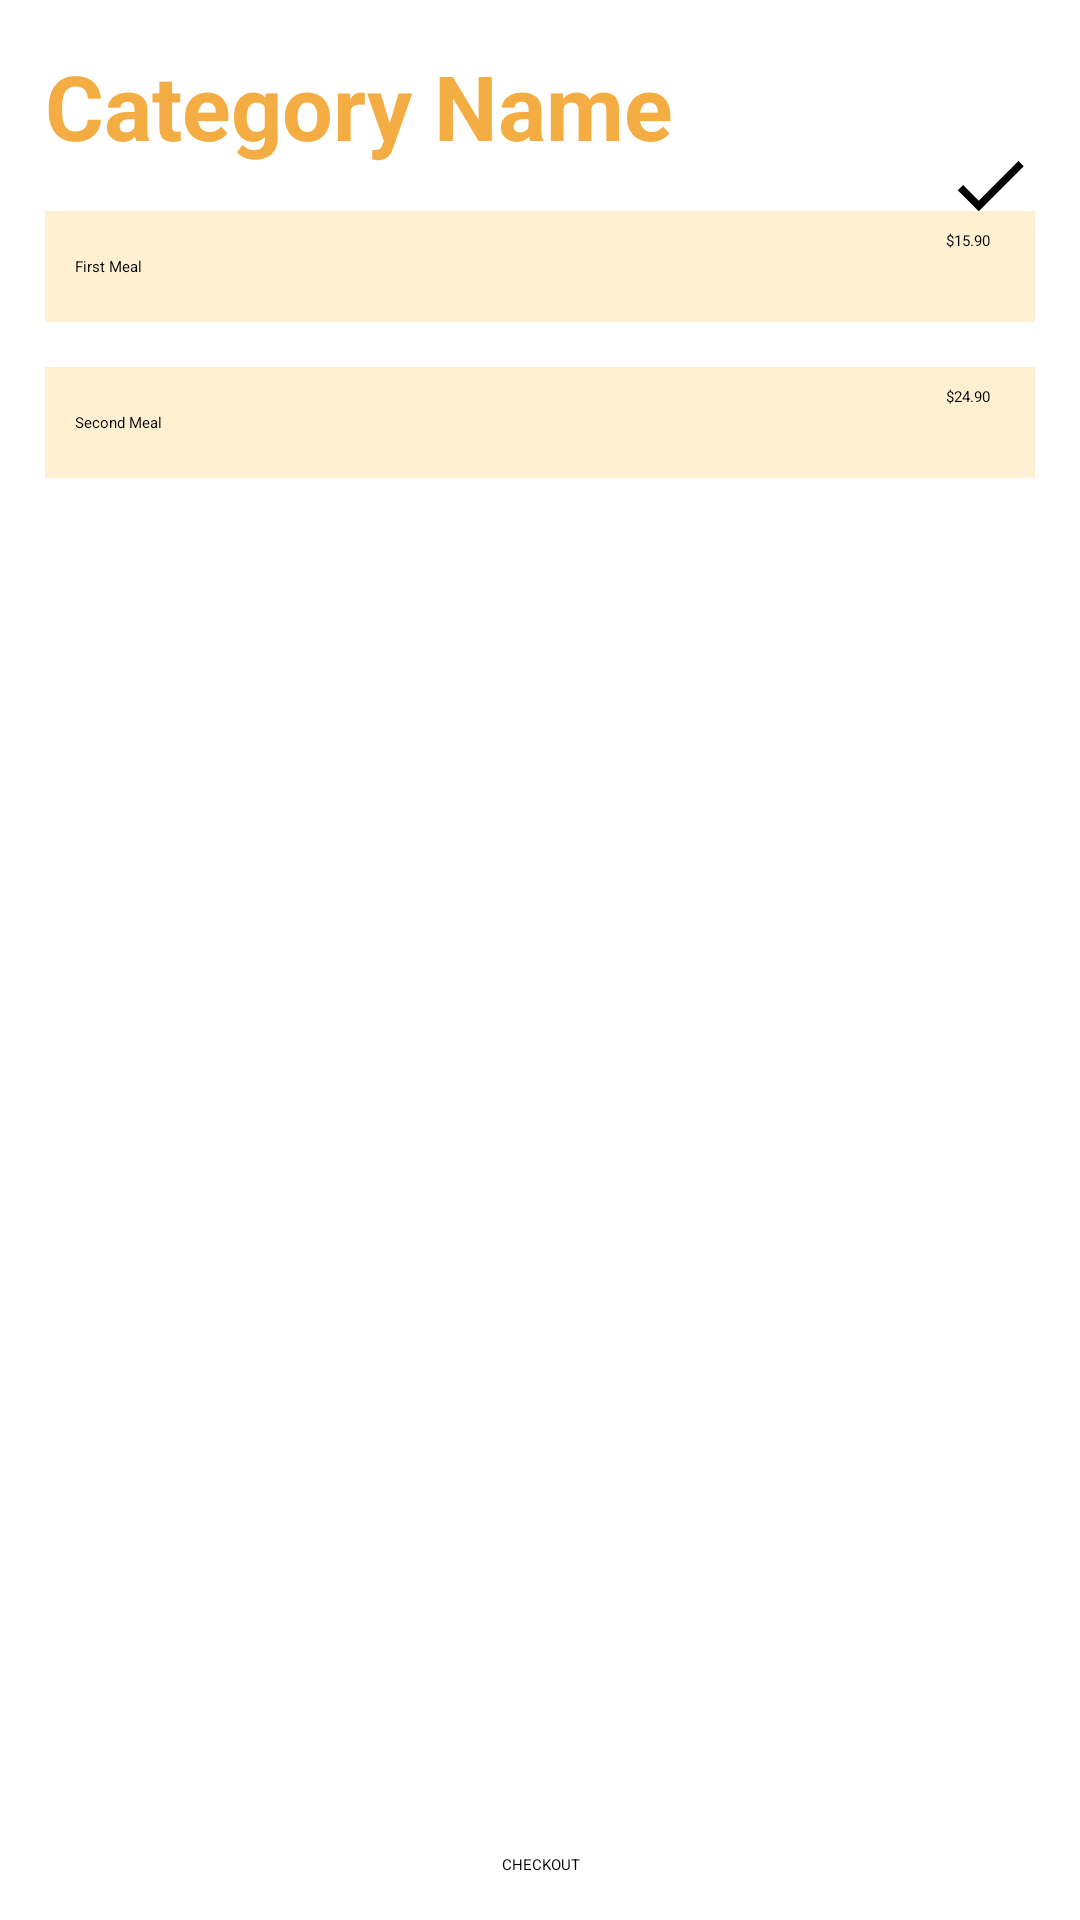

Icon bounding boxes for this 1080px×1920px phone screenshot, format {"left": x1, "top": y1, "right": x2, "bottom": y2}:
check: {"left": 945, "top": 161, "right": 1035, "bottom": 230}
